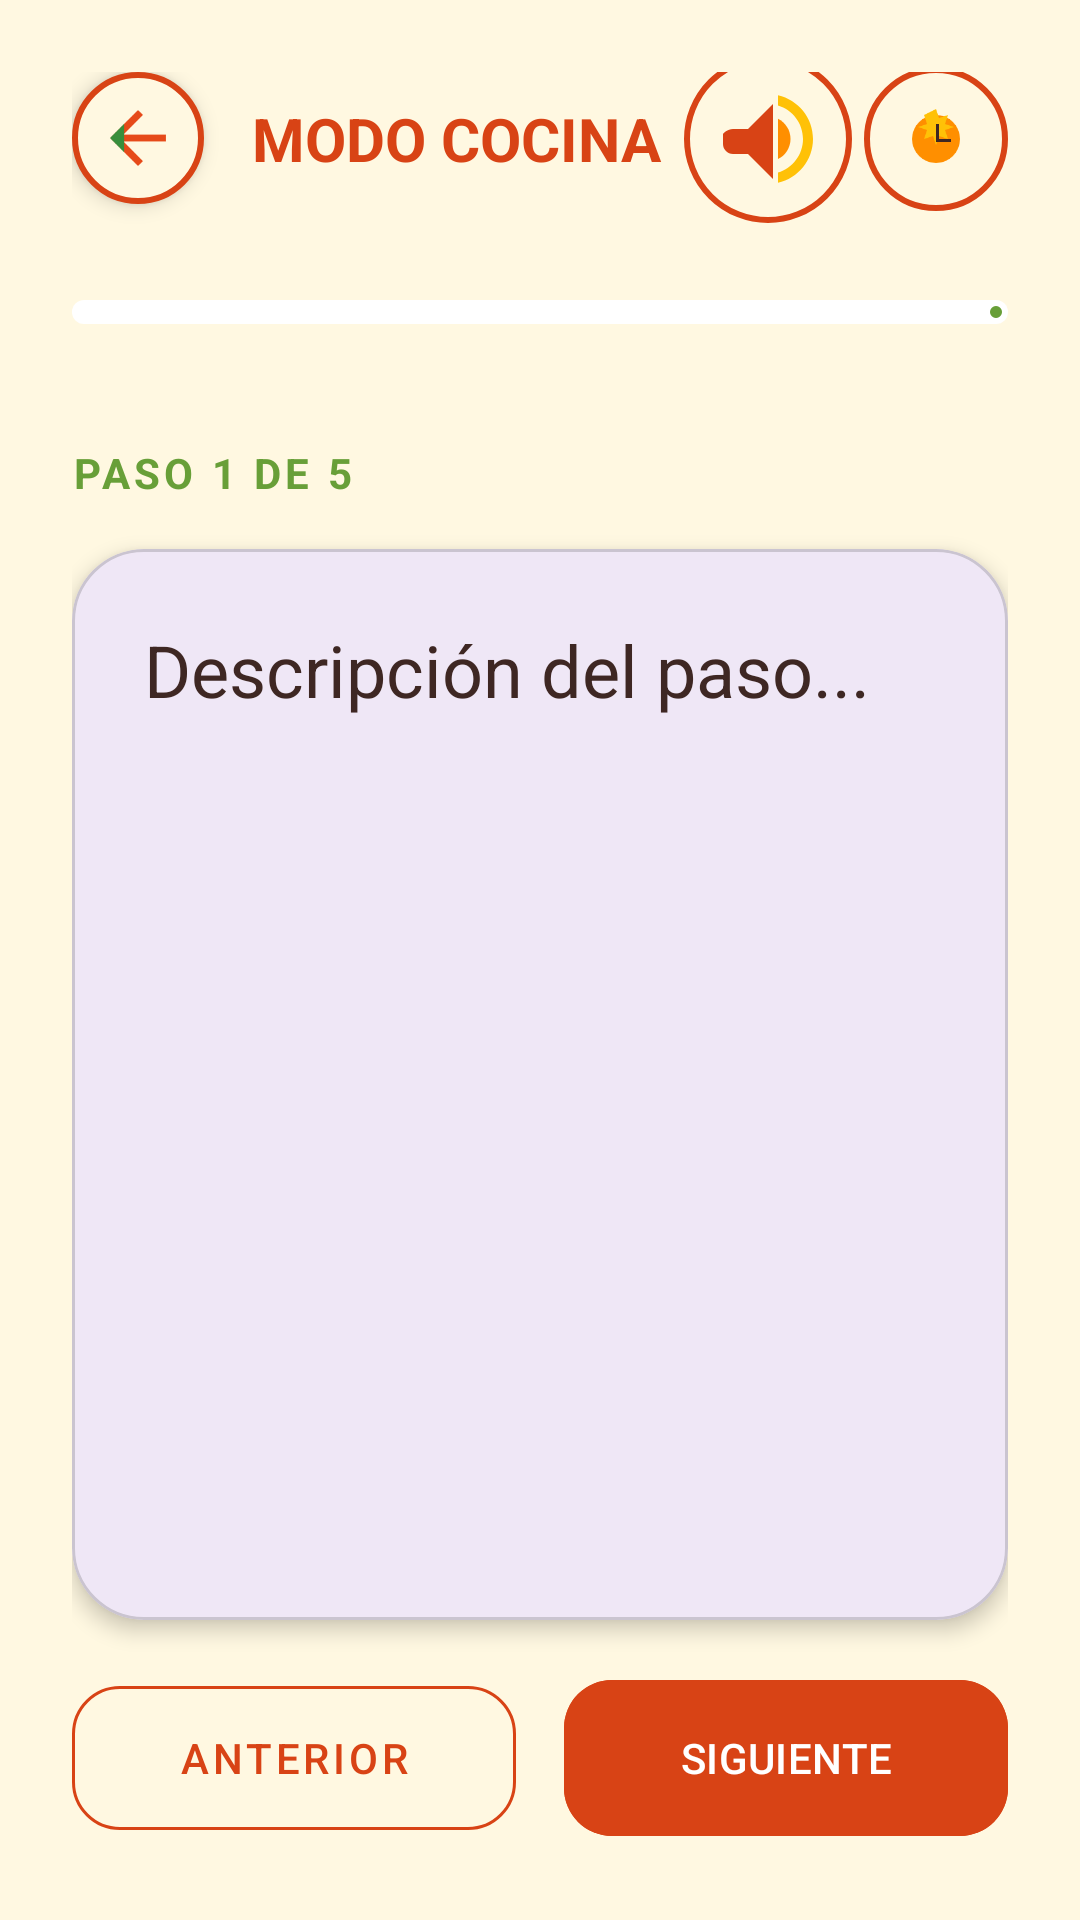

Named icons in this screenshot (1080 x 1920) and their bounding boxes, bbox=(x1, y1, x2, y2):
mex speak: bbox=(684, 72, 852, 223)
Regresar: bbox=(72, 72, 204, 204)
